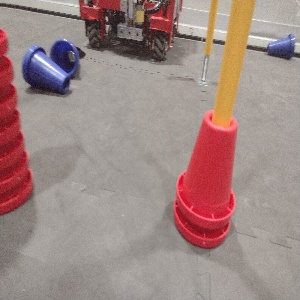Blue_1: (20, 42, 71, 95), (49, 39, 77, 78), (265, 28, 296, 61)
Red_2: (174, 102, 238, 248)
